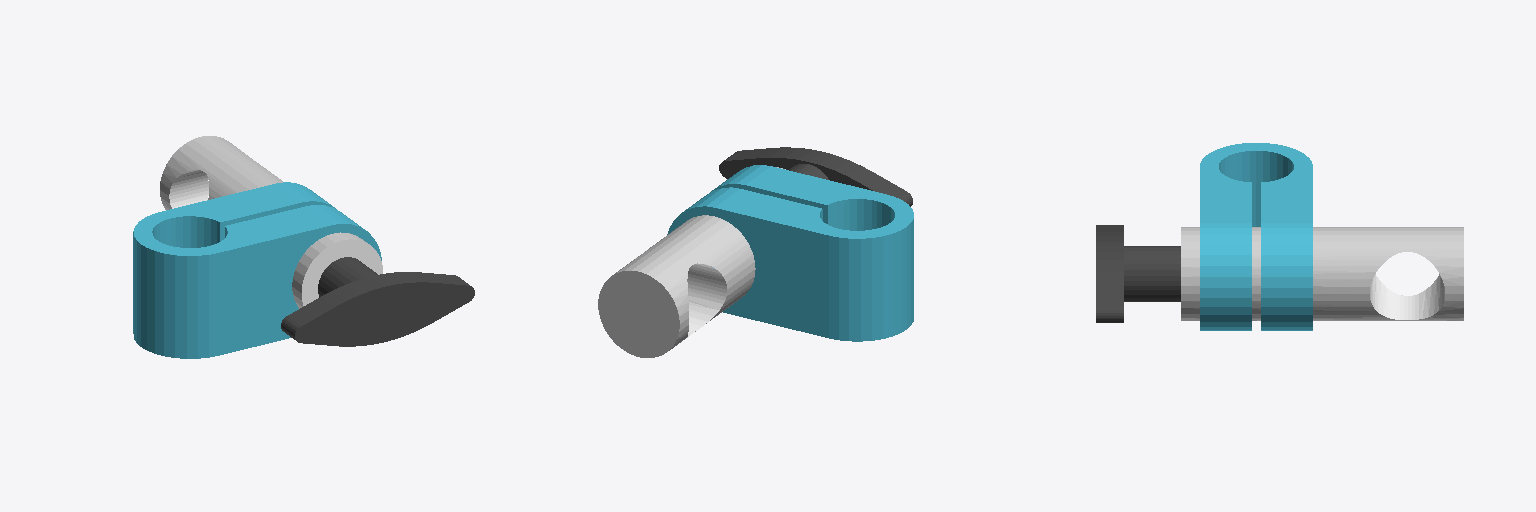
File: Rotator1.obj
3 views of the same model, side by side, from view 1: azimuth 30°, elevation 25°; view 2: azimuth 150°, elevation 25°; view 3: azimuth 270°, elevation 25° (orthographic).
Parts seen in each view (by area): view 1: _1_DC_Shell, NONE_DC_Shell; view 2: _1_DC_Shell, NONE_DC_Shell; view 3: NONE_DC_Shell, _1_DC_Shell.
Part boxes in pixels (bbox=[...]): _1_DC_Shell: bbox=[133, 182, 381, 358]; NONE_DC_Shell: bbox=[160, 136, 474, 346]; _1_DC_Shell: bbox=[667, 165, 913, 341]; NONE_DC_Shell: bbox=[598, 147, 912, 357]; NONE_DC_Shell: bbox=[1096, 225, 1463, 322]; _1_DC_Shell: bbox=[1200, 143, 1312, 330].
Bounding box in the file's own units: 15.5 × 6 × 19.5.